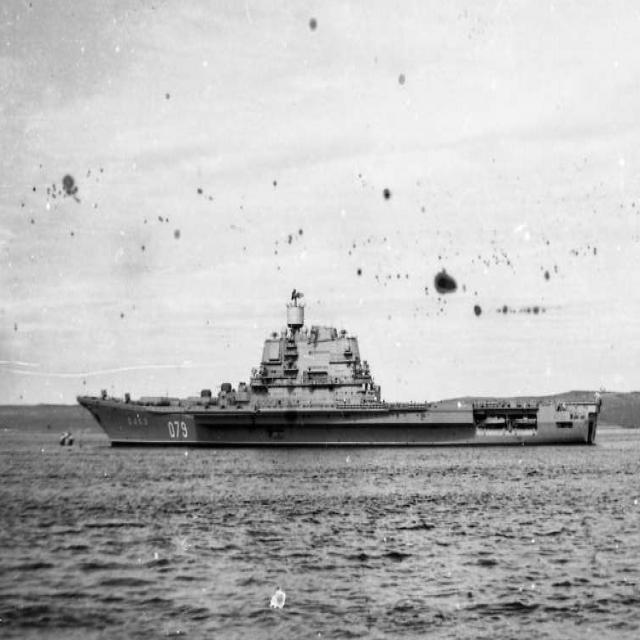Portanaves: (74, 281, 610, 452)
